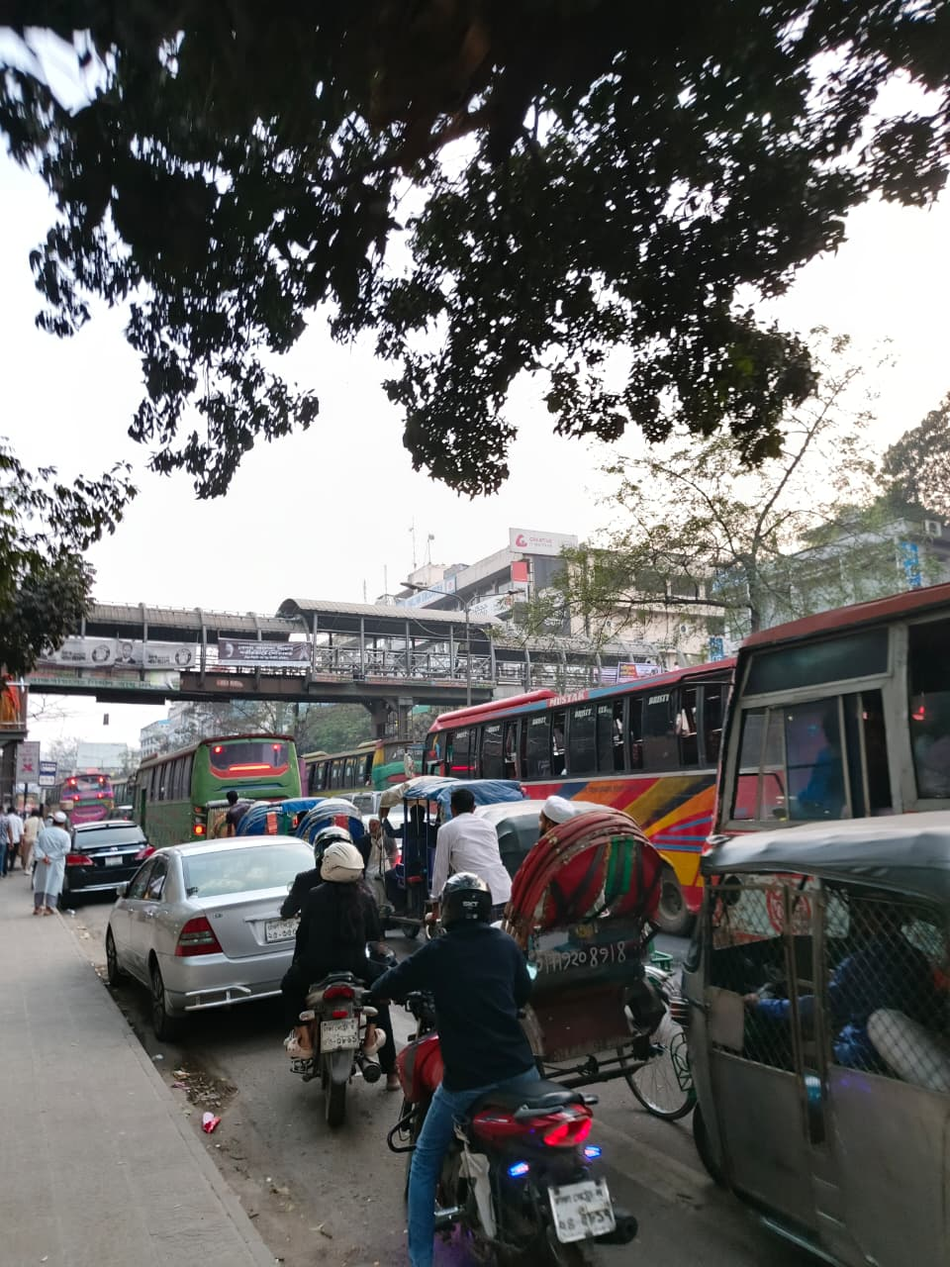Bikes: (307, 827, 586, 1250)
Bus: (433, 596, 950, 818), (114, 717, 323, 809), (37, 748, 146, 824)
auto-ricksaw: (505, 807, 712, 1040)
cng: (703, 842, 950, 1228), (485, 770, 669, 856)
private car: (116, 825, 329, 1060), (35, 807, 194, 894)
